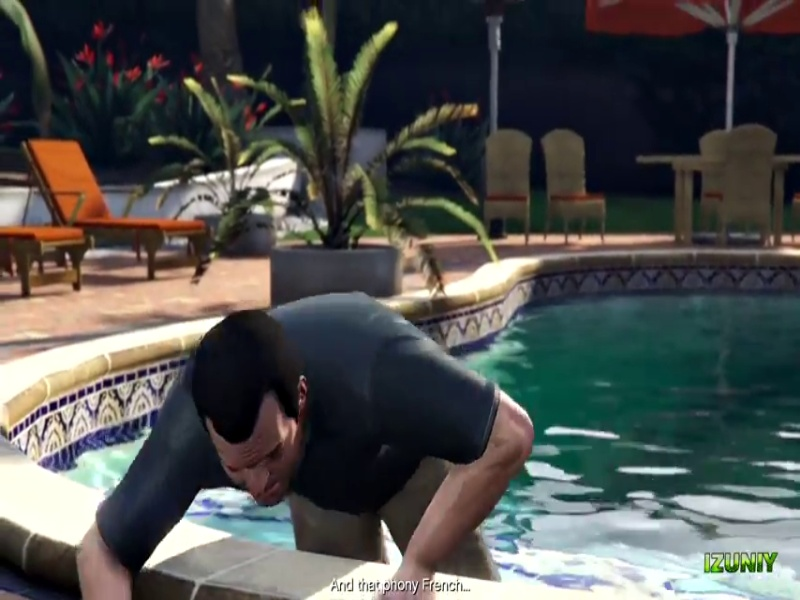licenseplate: (527, 4, 595, 286)
